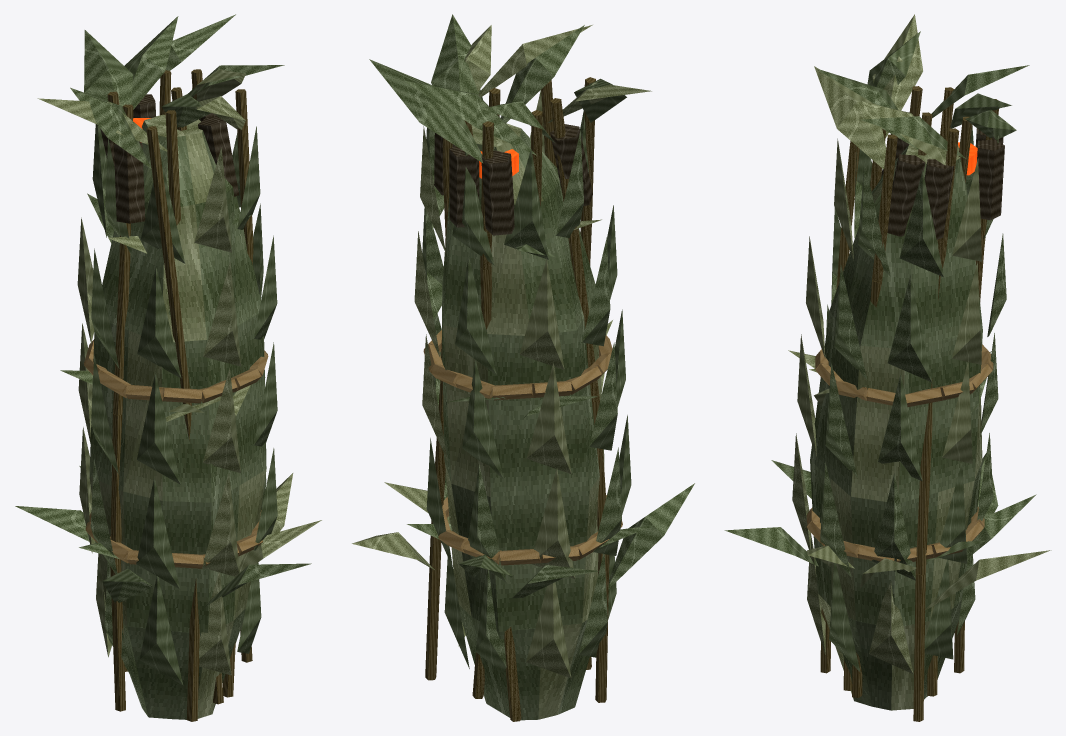
The model's file is blender_incense_1_burning.glb.
The picture shows the model from 3 angles, left to right: view 1: azimuth 30°, elevation 25°; view 2: azimuth 150°, elevation 25°; view 3: azimuth 270°, elevation 25°; orthographic projection. The views are drawn at different scales.
Visible parts, largest first — view 1: blender_incense_1_burning; view 2: blender_incense_1_burning; view 3: blender_incense_1_burning.
Boxes of the visible parts, bbox=[...] form: blender_incense_1_burning: bbox=[15, 14, 321, 721]; blender_incense_1_burning: bbox=[352, 14, 694, 721]; blender_incense_1_burning: bbox=[724, 14, 1051, 721].
Bounding box in the file's own units: 0.0784 × 0.183 × 0.0879.
6 materials, 6 textured.
